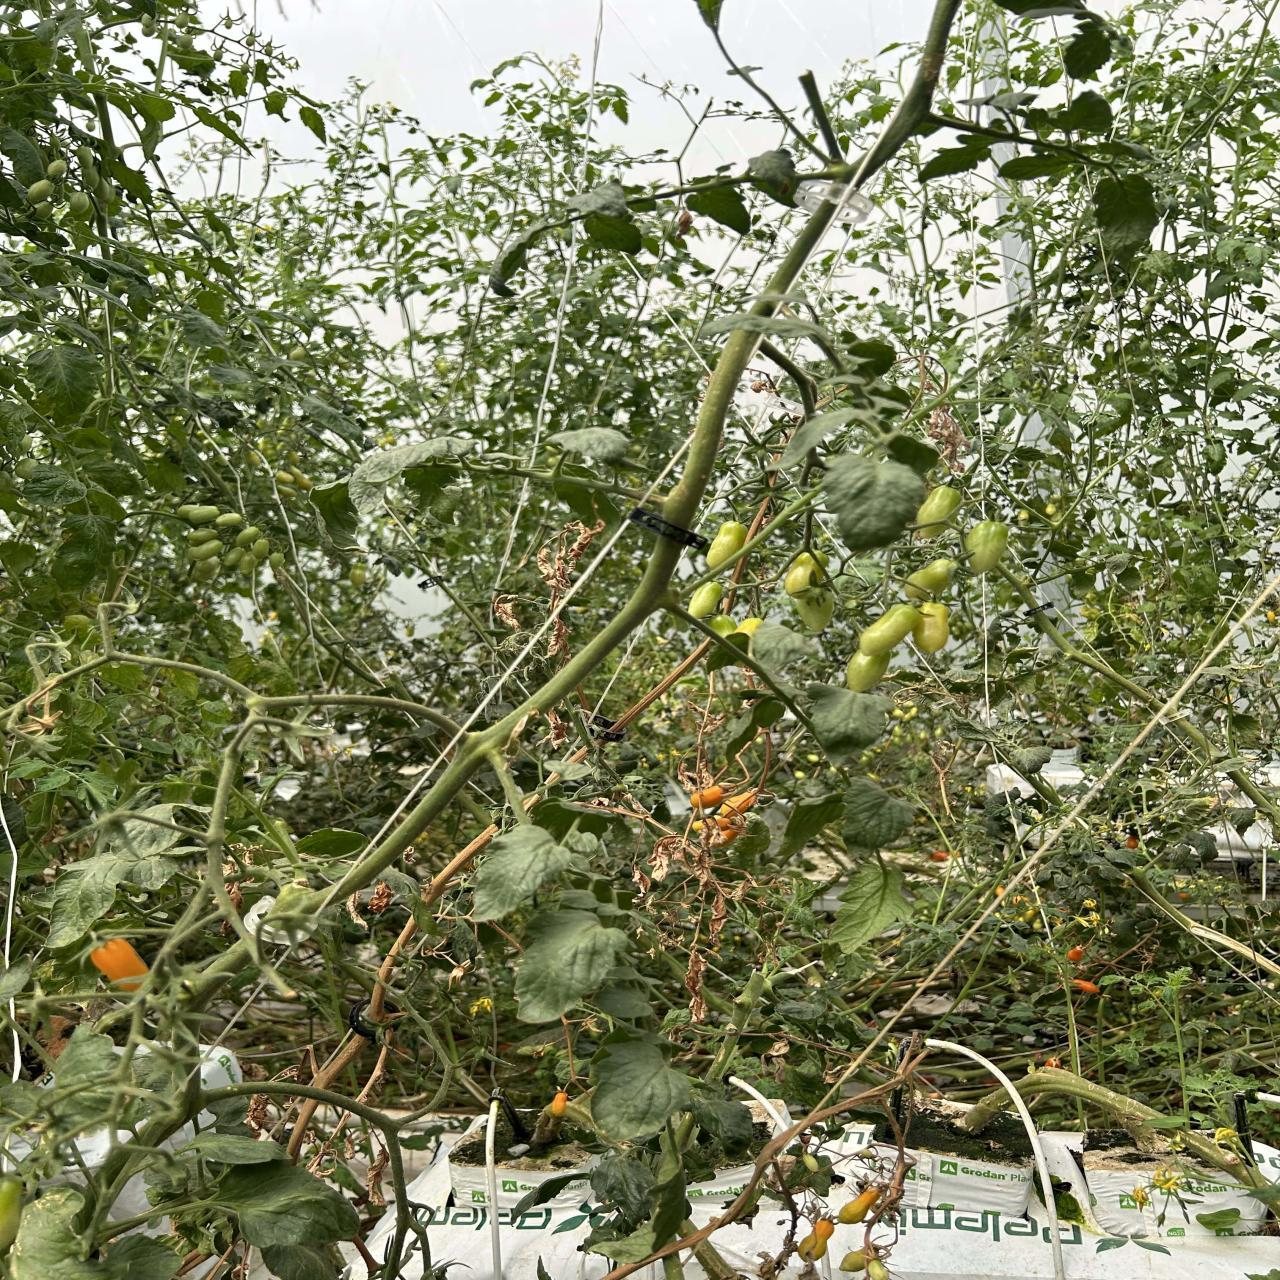Rugose Flower: (1121, 1186, 1149, 1210)
Rugose leaf: (515, 890, 628, 1023), (822, 454, 926, 551), (591, 1040, 690, 1141), (472, 825, 577, 920)
Rugose stem: (519, 536, 685, 716), (661, 325, 763, 531), (730, 205, 833, 322), (1015, 1067, 1180, 1137), (380, 758, 479, 858), (899, 0, 958, 121), (965, 1090, 1003, 1128)
Rugose tomato: (9, 1189, 110, 1280), (859, 605, 920, 655), (89, 939, 148, 990), (915, 485, 961, 539), (964, 520, 1007, 576), (903, 559, 956, 599), (706, 520, 748, 568), (913, 601, 949, 654), (837, 1185, 885, 1225), (844, 651, 888, 693), (783, 552, 825, 595), (798, 1218, 835, 1262), (712, 790, 757, 824), (688, 581, 723, 619), (690, 785, 724, 810), (188, 539, 223, 561), (192, 557, 222, 581), (186, 526, 219, 546), (839, 1248, 866, 1272), (237, 551, 260, 574), (223, 546, 247, 568), (234, 525, 260, 546), (547, 1090, 567, 1117), (189, 506, 219, 524), (865, 1259, 890, 1280), (250, 538, 271, 561), (176, 505, 203, 520), (216, 512, 241, 526), (267, 552, 284, 573)
